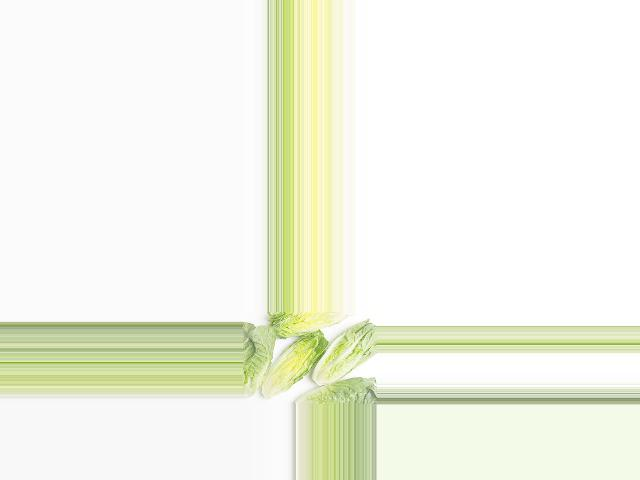lettuce: (242, 321, 278, 395)
